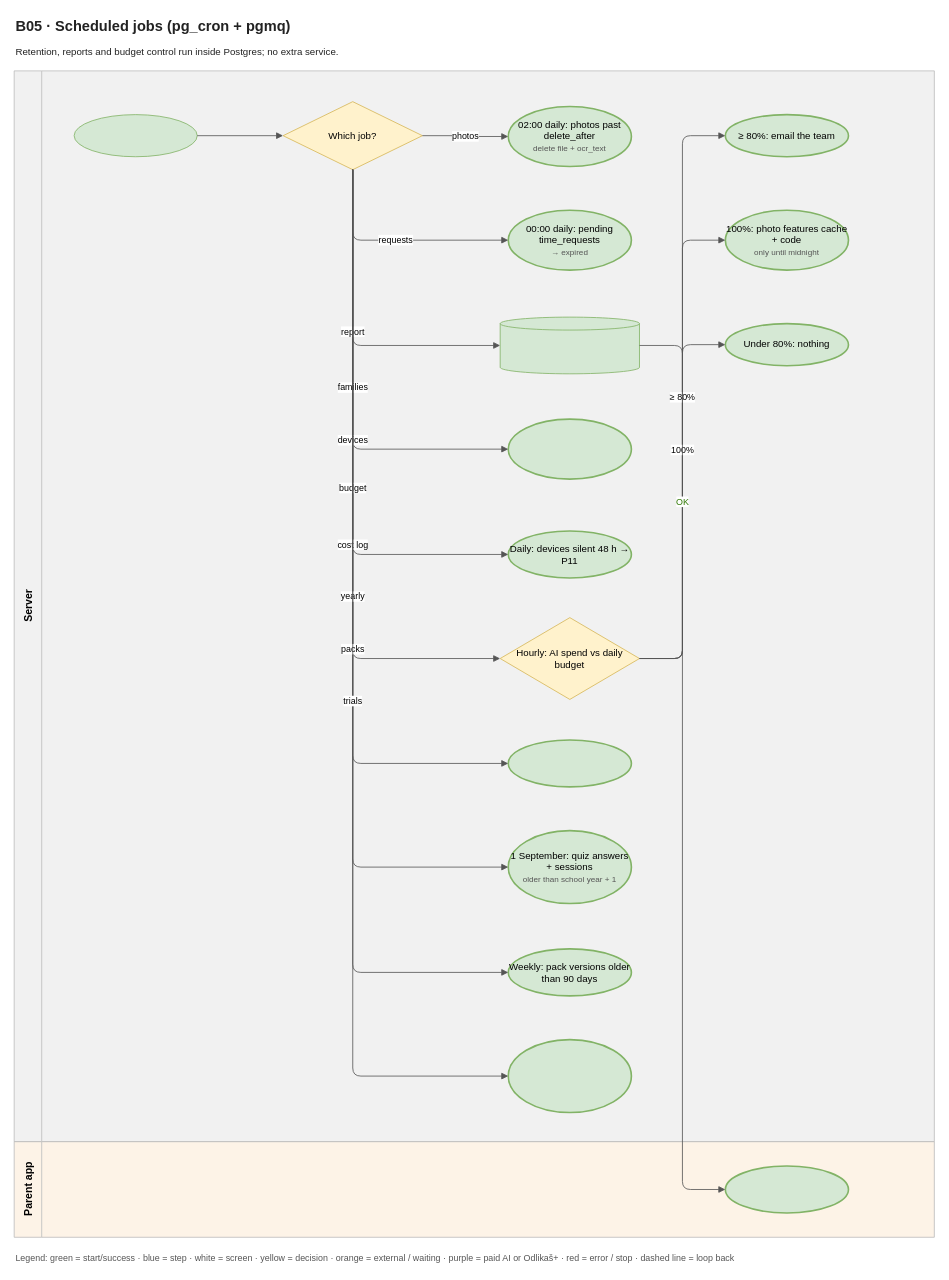
Image size: 949x1280. Some labels were removed from this diagram. The shapes that lost their labels are listed below. From the top down, each one's centre as x and y in pixels, then its label:
At point (135, 135): "pg_cron fires".
At point (569, 345): "Sunday 22:00: weekly_reports (SQL aggregates)".
At point (569, 449): "Daily: families deleted 30+ days ago hard delete".
At point (569, 763): "Monthly: ai_calls older than 13 months".
At point (569, 1075): "Daily: trial day 12 → push + e-mail, day 14 → offer, no decision → Free".
At point (786, 1189): "Weekly report notification".
